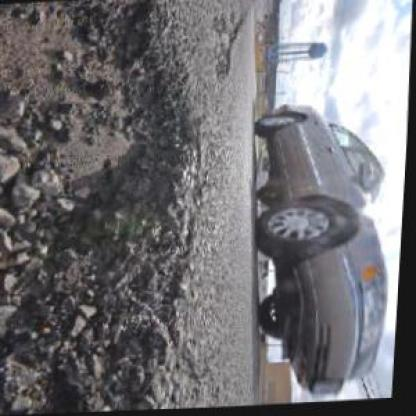pothole: (212, 43, 233, 83)
